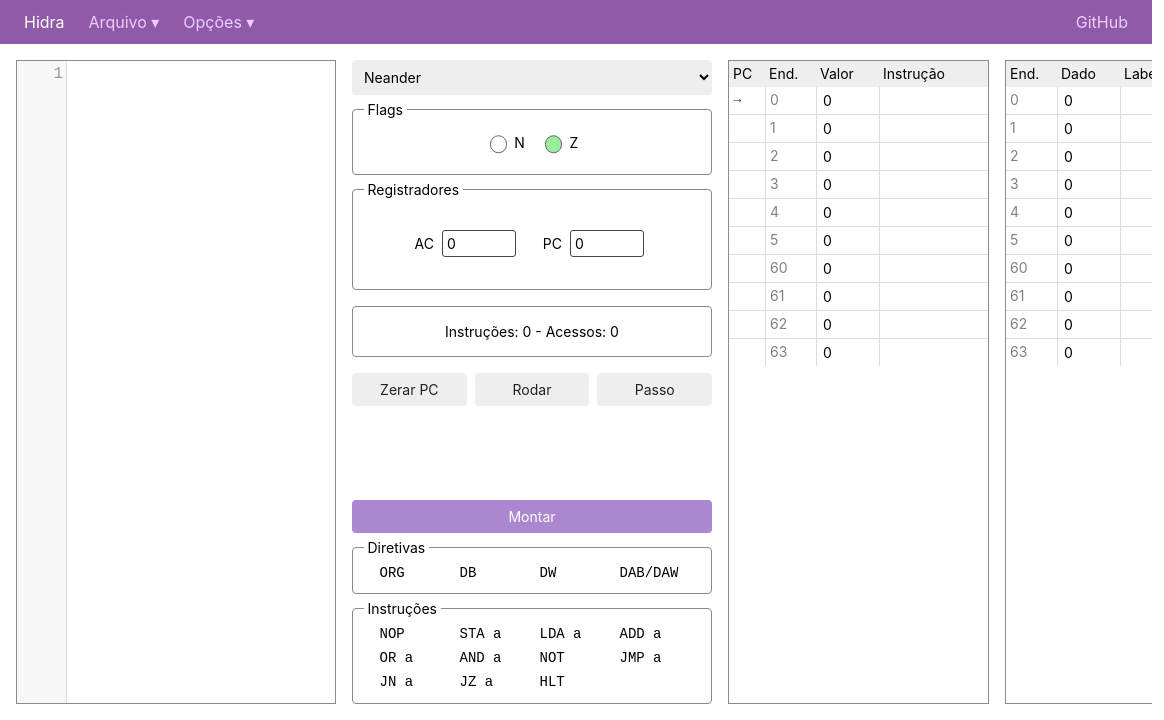
it: App: Machine Area › machine select: should allow changing machines
Select "Ramses" in the dropdown: point(532, 78) x1=352 y1=60 x2=712 y2=95
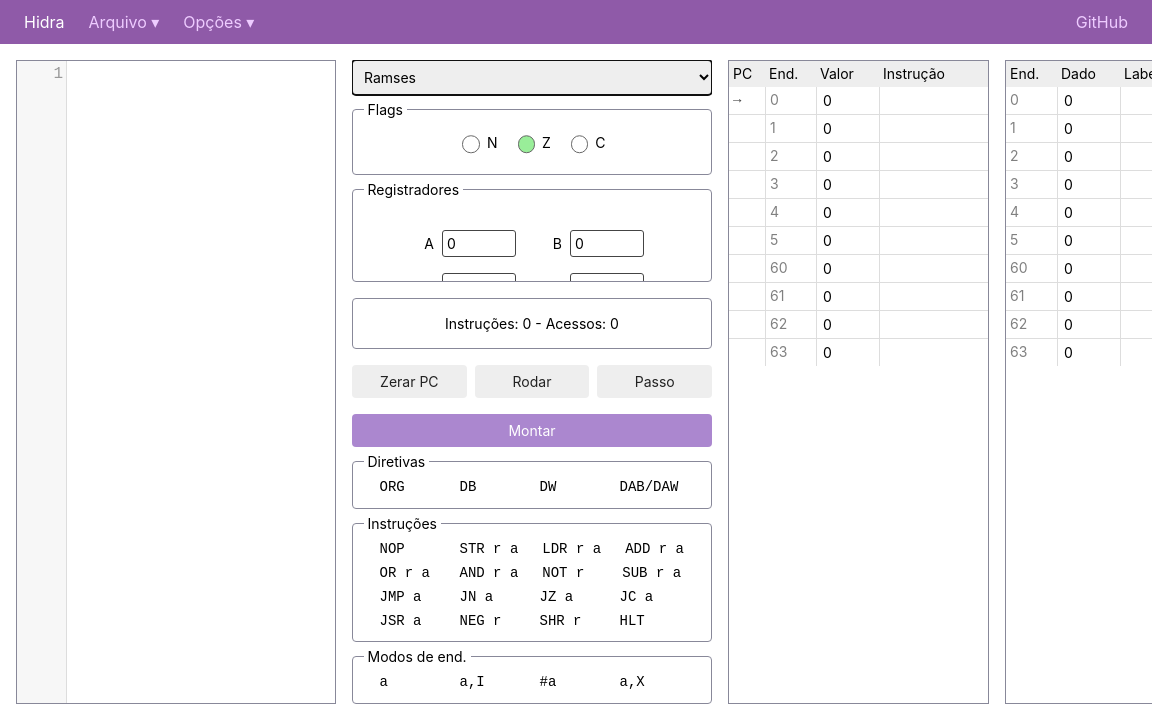
Expected: the checkbox labelled "C" is shown, x1=571 y1=135 x2=588 y2=153
Expected: the text "SHR r" is shown, x1=540 y1=613 x2=582 y2=629
Expected: the text "#a" is shown, x1=540 y1=674 x2=556 y2=690
